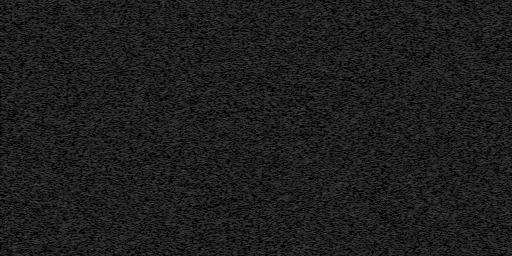wv_am: (150, 0, 156, 256), (415, 0, 420, 256), (19, 0, 24, 256)
wv_cw: (121, 0, 127, 256), (51, 0, 57, 256), (16, 0, 21, 256), (388, 0, 393, 252)
wv_usb: (10, 88, 16, 182), (10, 2, 16, 87), (10, 206, 16, 256), (15, 137, 20, 162), (10, 183, 15, 205), (15, 66, 20, 83), (15, 93, 20, 106), (16, 40, 19, 61), (16, 206, 19, 227), (15, 163, 20, 175), (15, 5, 20, 17), (15, 178, 19, 189), (15, 194, 19, 204), (15, 85, 19, 92), (15, 29, 19, 36), (16, 107, 19, 113), (16, 18, 19, 24), (16, 130, 19, 134), (16, 190, 19, 193), (16, 123, 19, 126), (16, 116, 19, 119), (16, 62, 19, 65), (16, 25, 19, 28)
